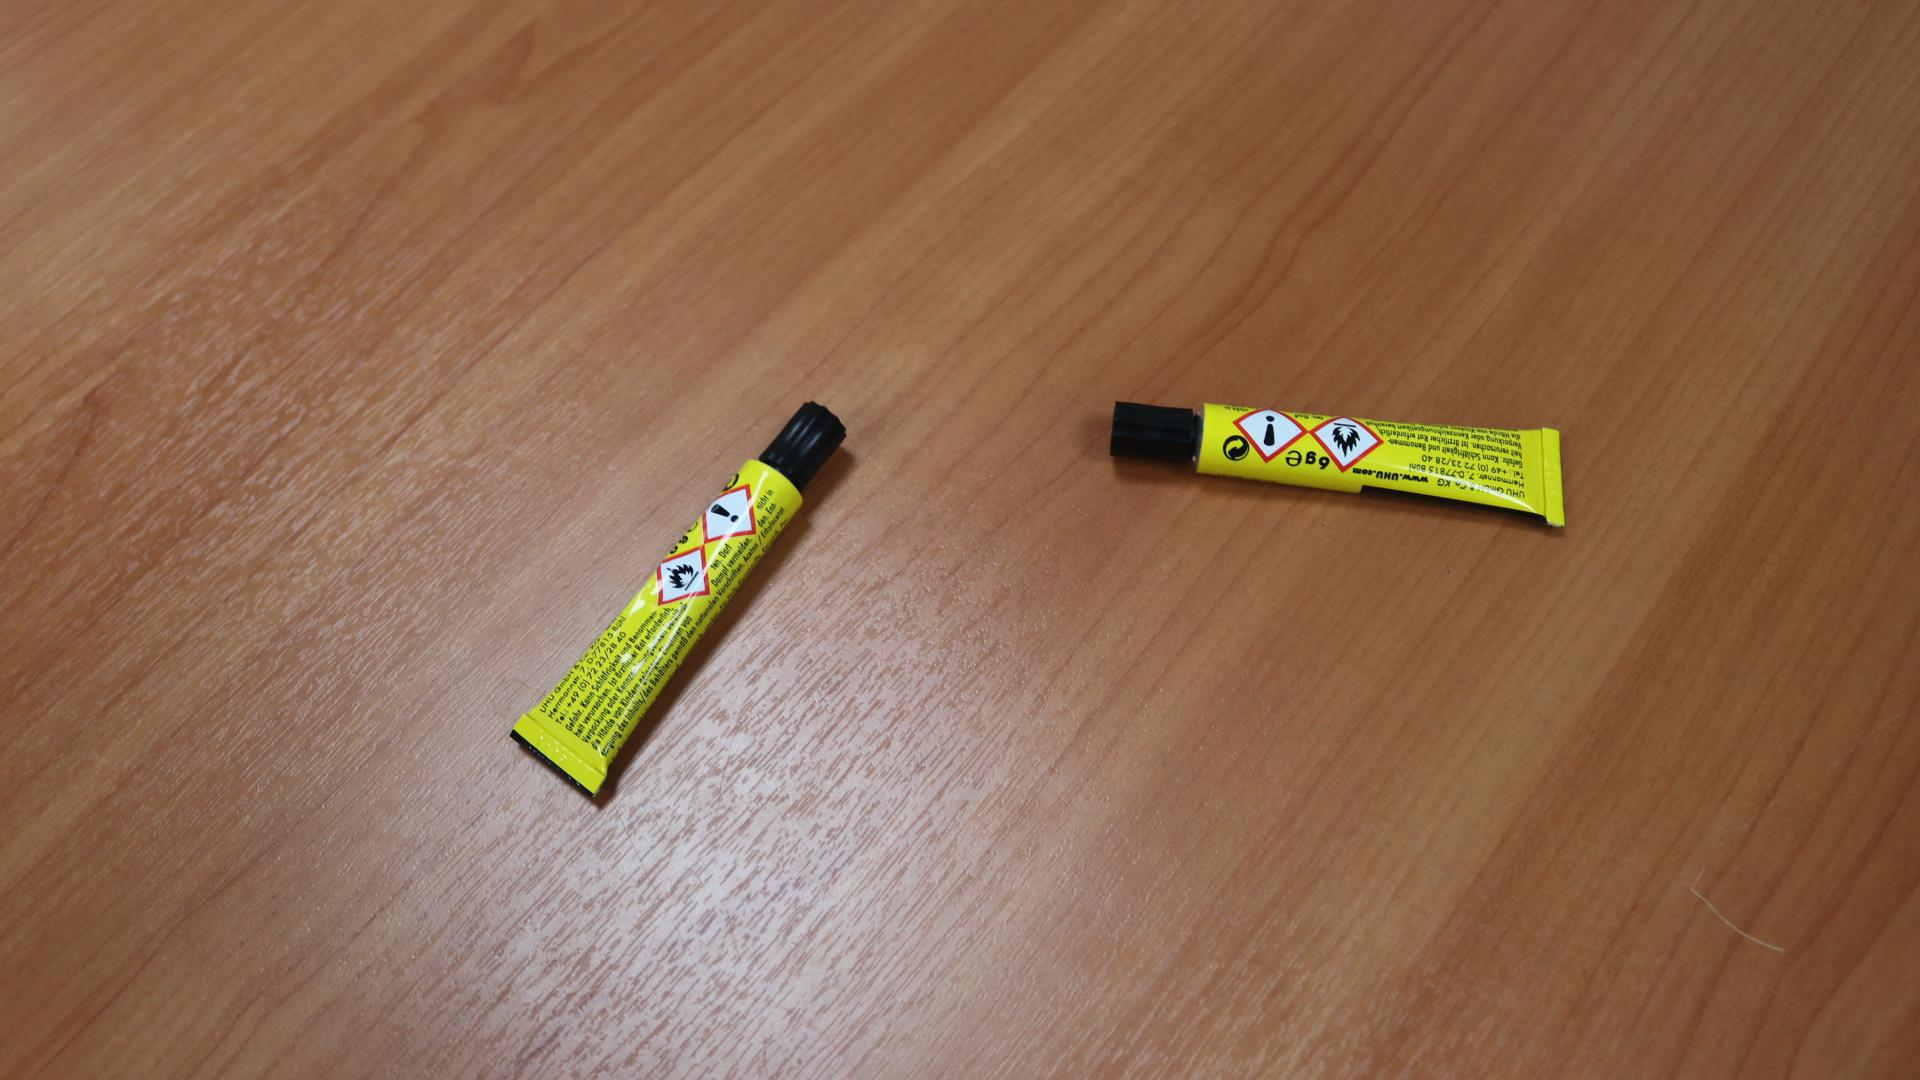Head: (1146, 424, 1160, 437), (797, 437, 809, 449)
Tail: (552, 747, 565, 760), (1547, 467, 1559, 481)
Tube: (514, 398, 848, 801), (1108, 399, 1567, 530)
